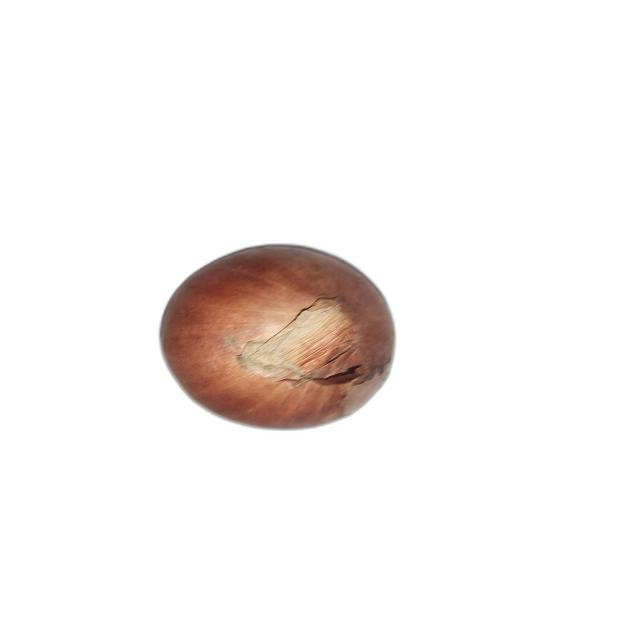onion: (157, 243, 396, 431)
